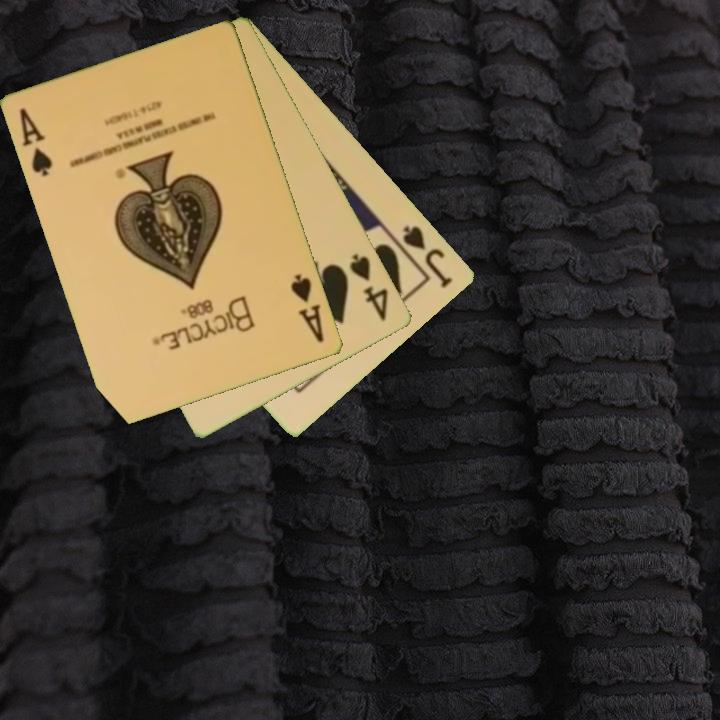4s: (346, 250, 392, 325)
As: (287, 270, 328, 346), (16, 104, 56, 180)
Js: (399, 221, 456, 291)
